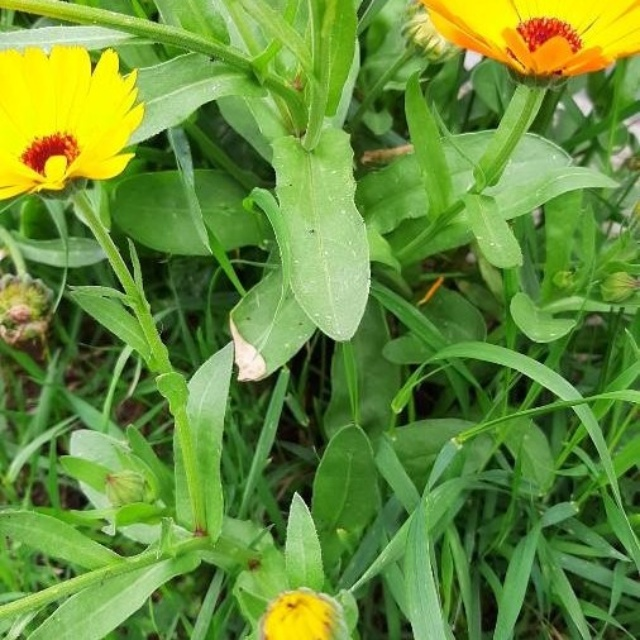obstacle: (1, 42, 234, 601), (197, 6, 616, 307), (333, 309, 632, 626)
